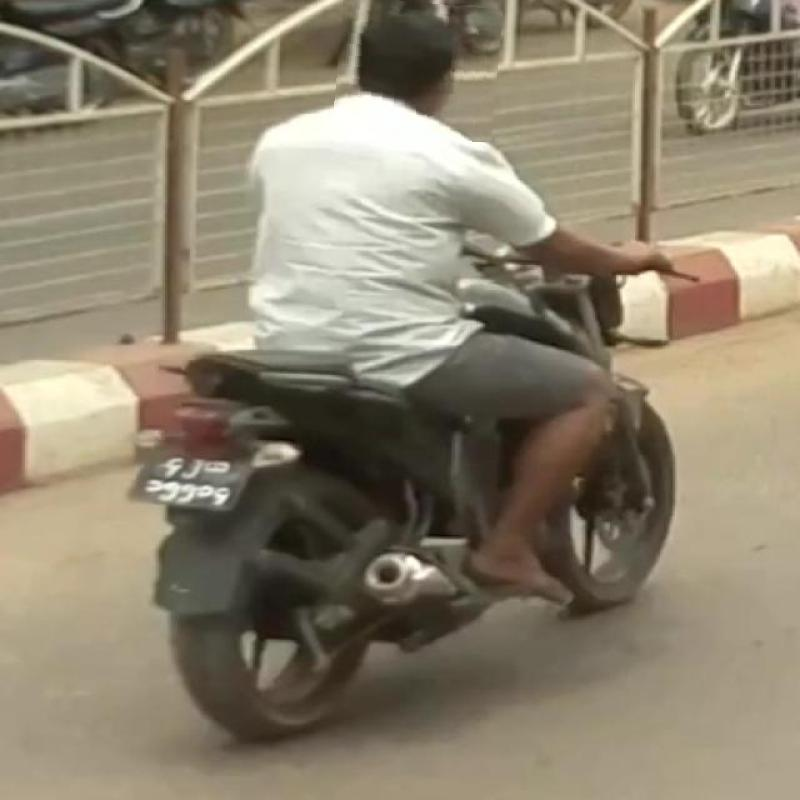nohelmet: (334, 0, 500, 139)
